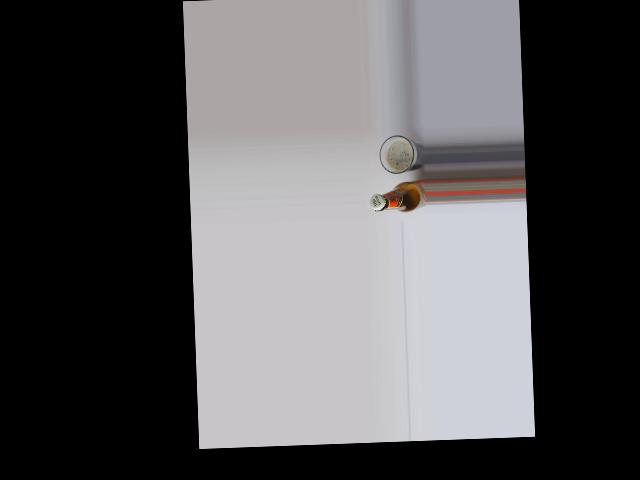beer: (369, 179, 427, 213)
